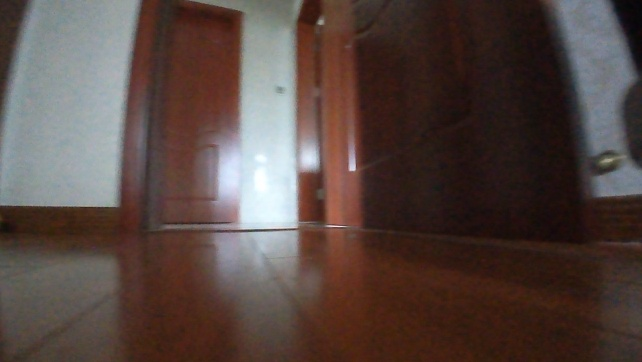door_anno: (149, 3, 242, 230)
